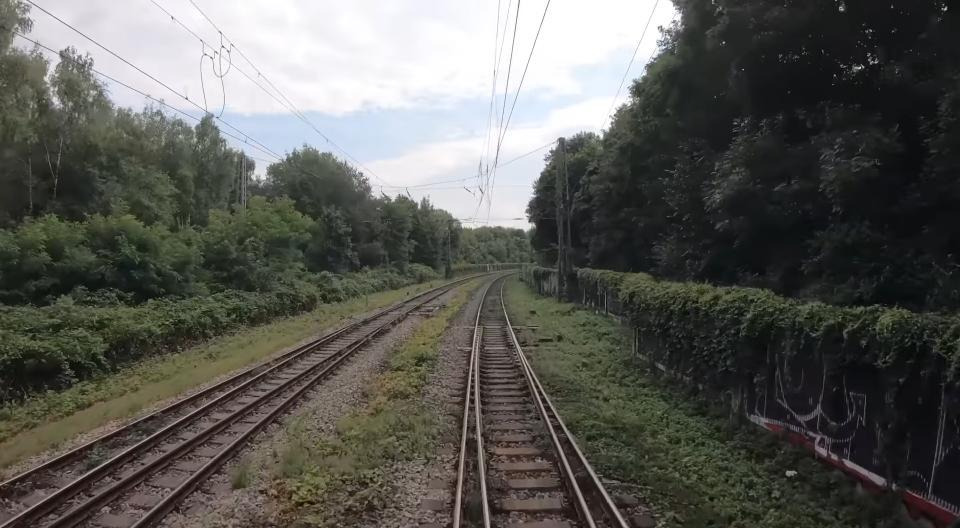Plant: (508, 283, 925, 528), (0, 279, 443, 469), (272, 297, 465, 528), (231, 460, 252, 489)
